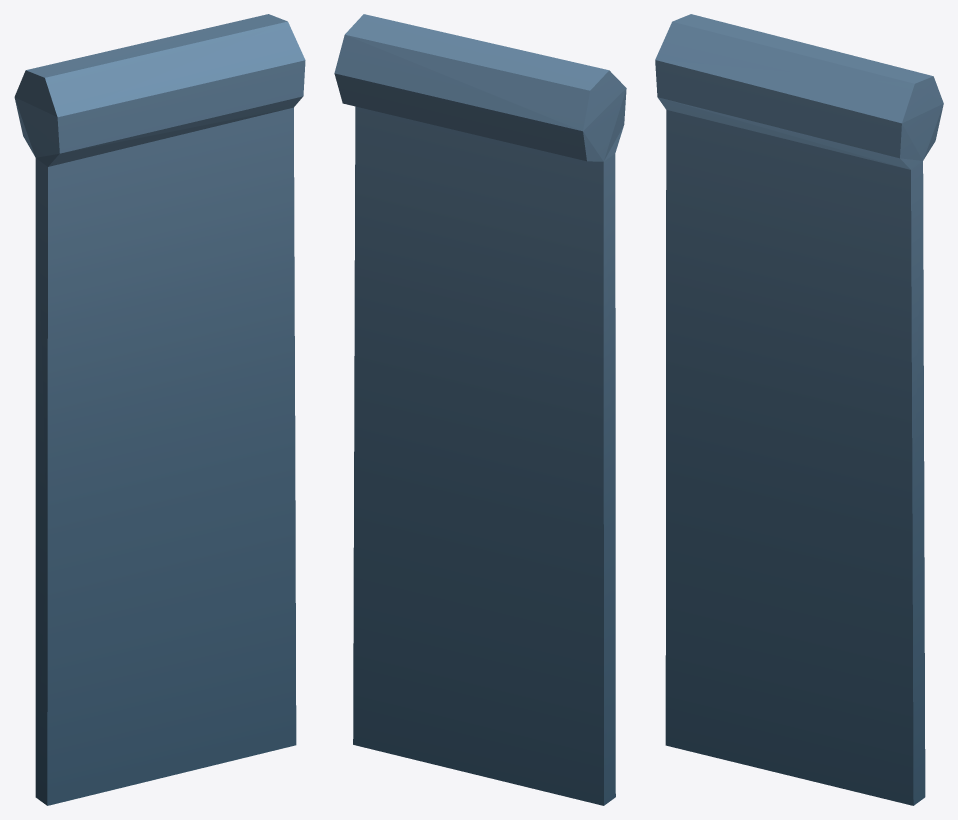
Rendered from MarketStall_Flag_Blank_Blue.gltf.
3 renders of one model, left to right at view 1: azimuth 30°, elevation 25°; view 2: azimuth 150°, elevation 25°; view 3: azimuth 330°, elevation 25°, orthographic.
Visible parts, largest first — view 1: MarketStall_Flag_Blank_Blue; view 2: MarketStall_Flag_Blank_Blue; view 3: MarketStall_Flag_Blank_Blue.
Part boxes in pixels (x1,y1,x2,y2): MarketStall_Flag_Blank_Blue: (14,14,305,805); MarketStall_Flag_Blank_Blue: (334,14,626,805); MarketStall_Flag_Blank_Blue: (655,14,943,805).
Size of the model in its own units: 0.3827 by 1.06 by 0.1149.
Materials: 1 (1 with a texture image).
